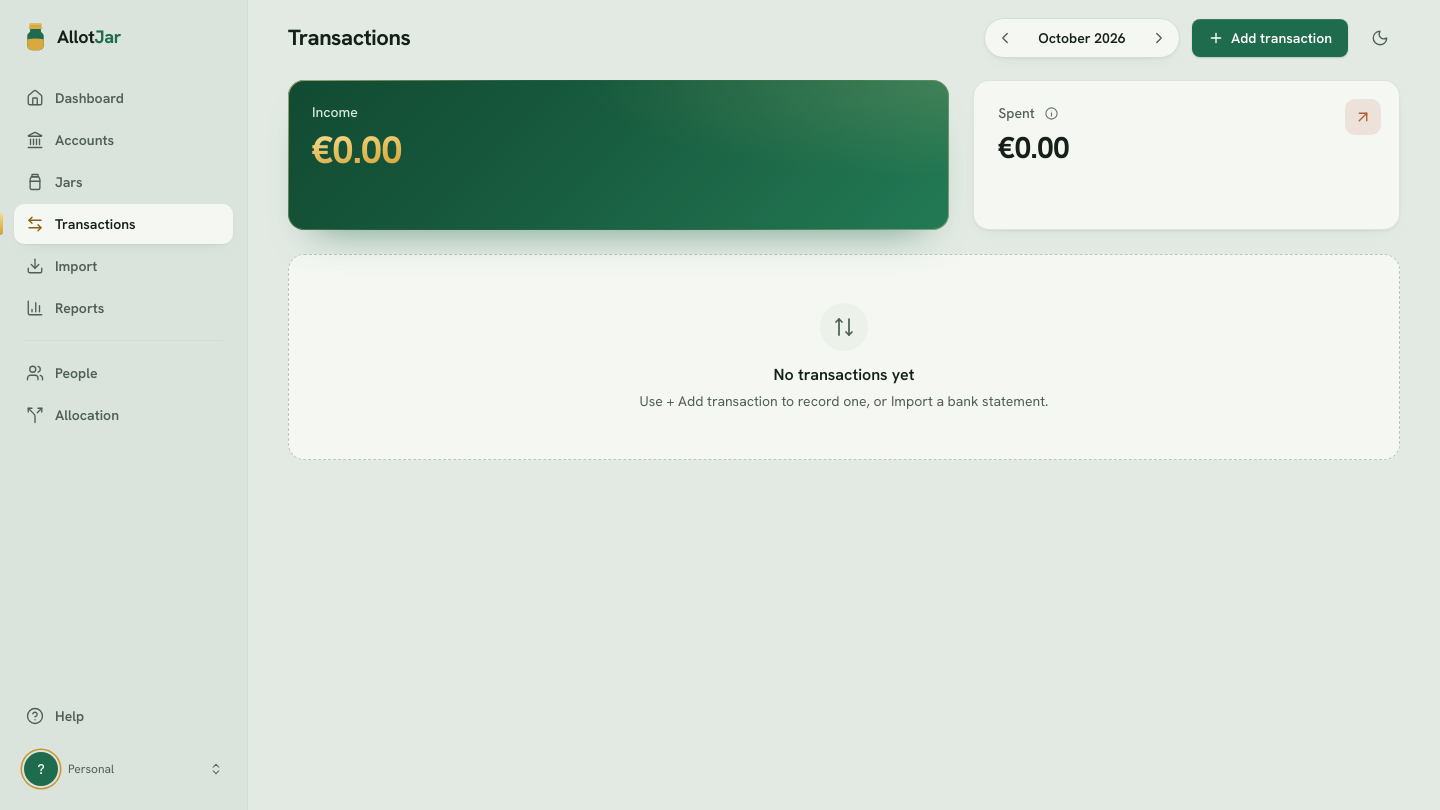
Test case: TransactionsPage jar prompts › shows a below-zero refusal verbatim
Click the button "Add transaction" at (1270, 38), box [1192,19,1348,57]
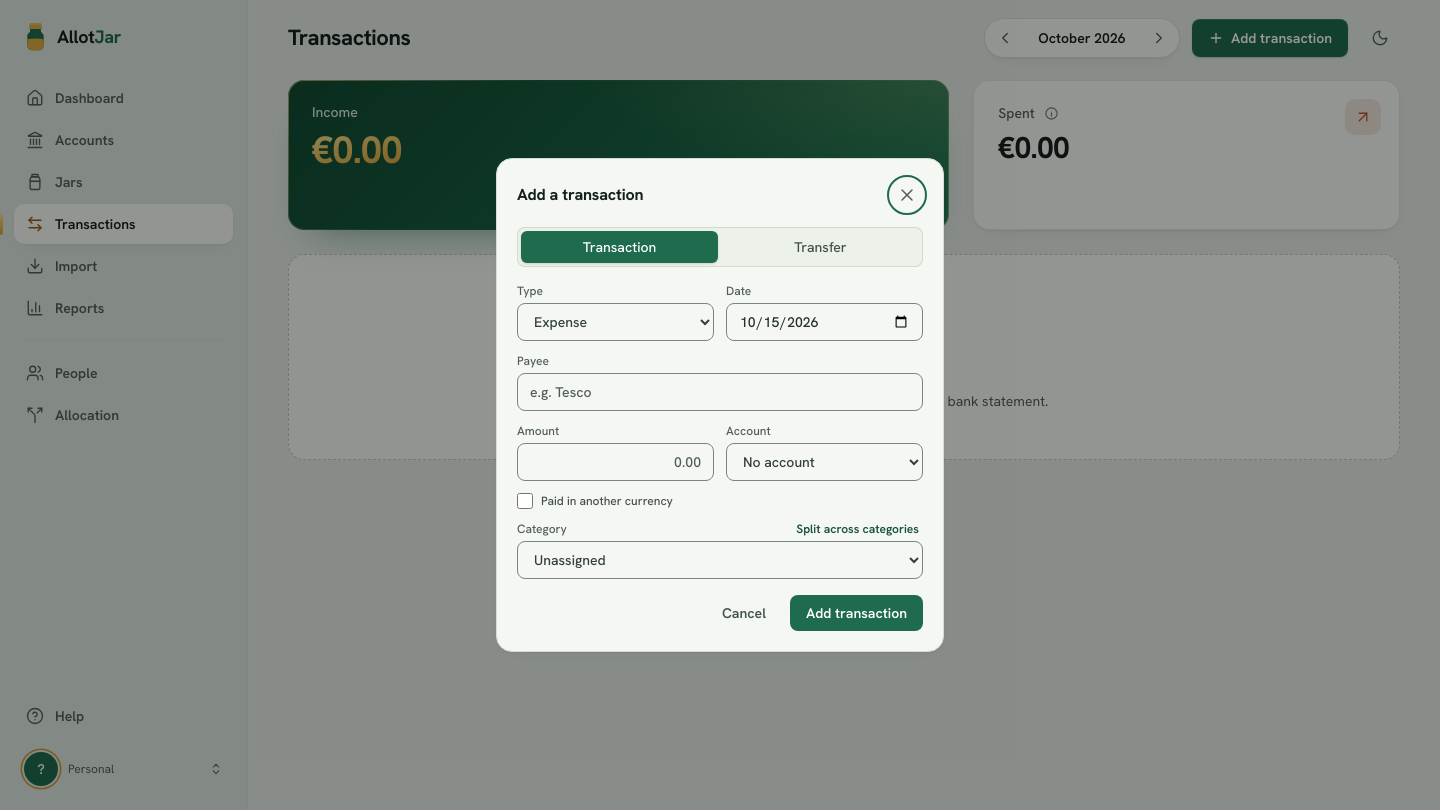
Type "550" into the field named "Transaction amount" at (616, 462), box [517,443,714,481]
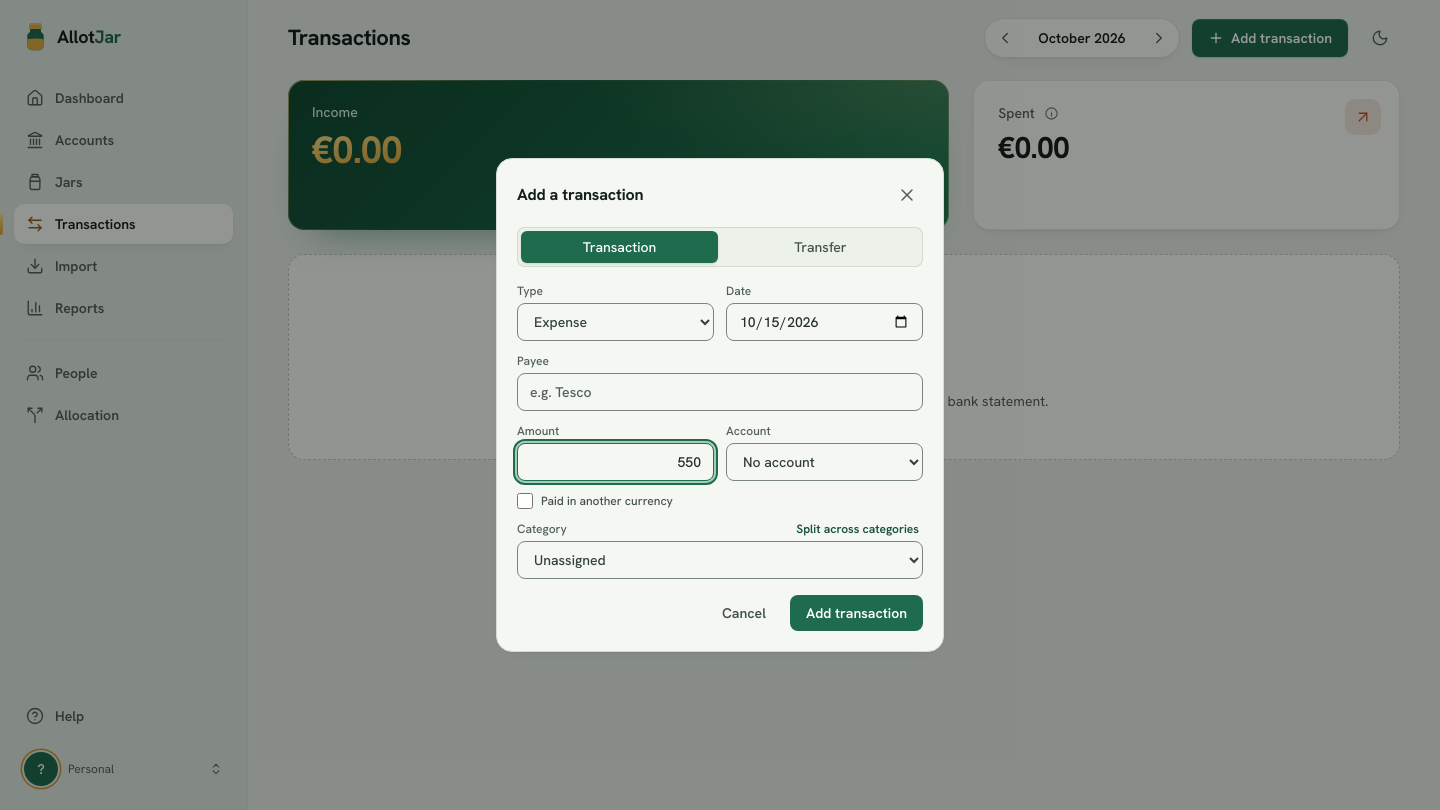
Select "Savings" in the dropdown named "Transaction account" at (824, 462), box [726,443,923,481]
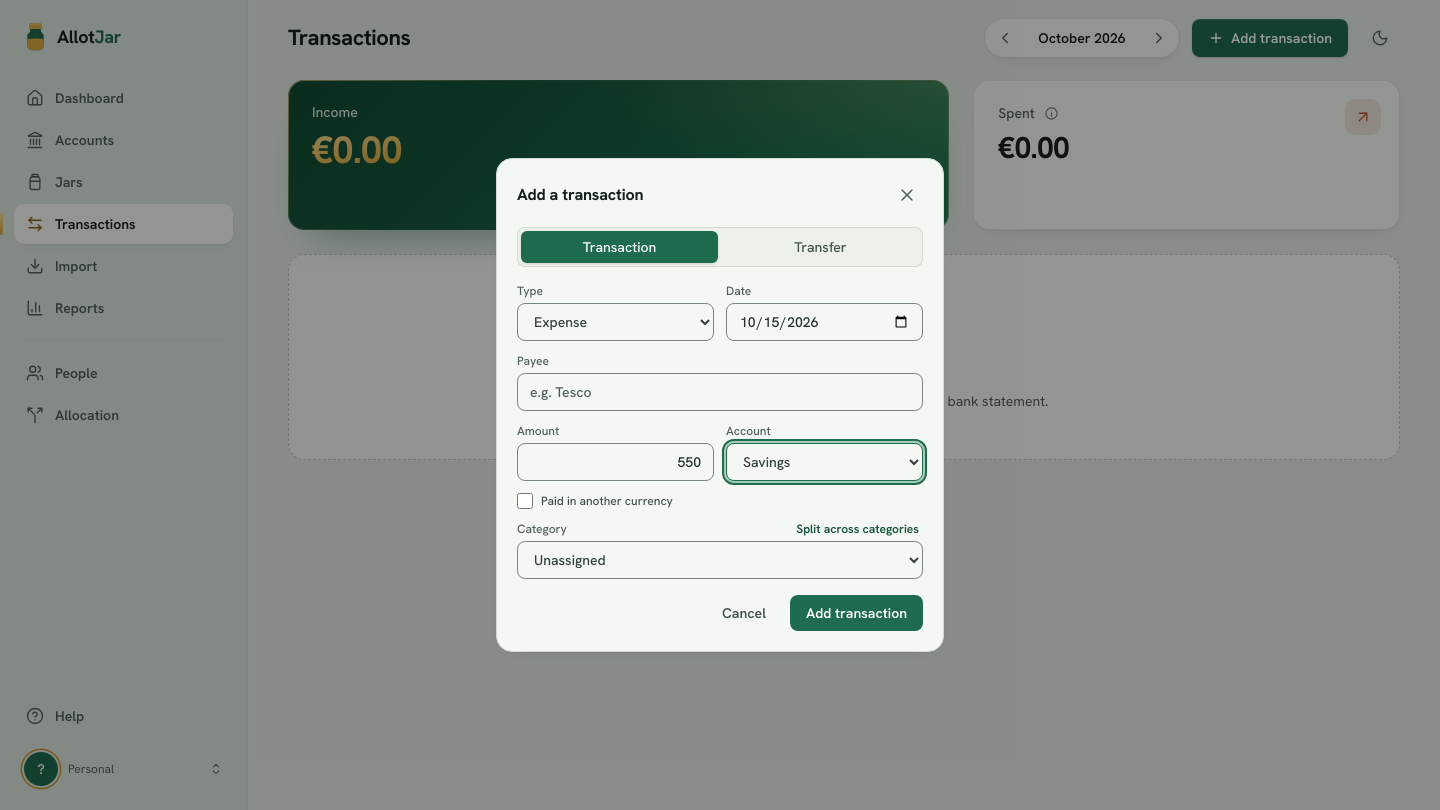
Click the button "Add transaction" at (856, 613), box [790,595,923,631]
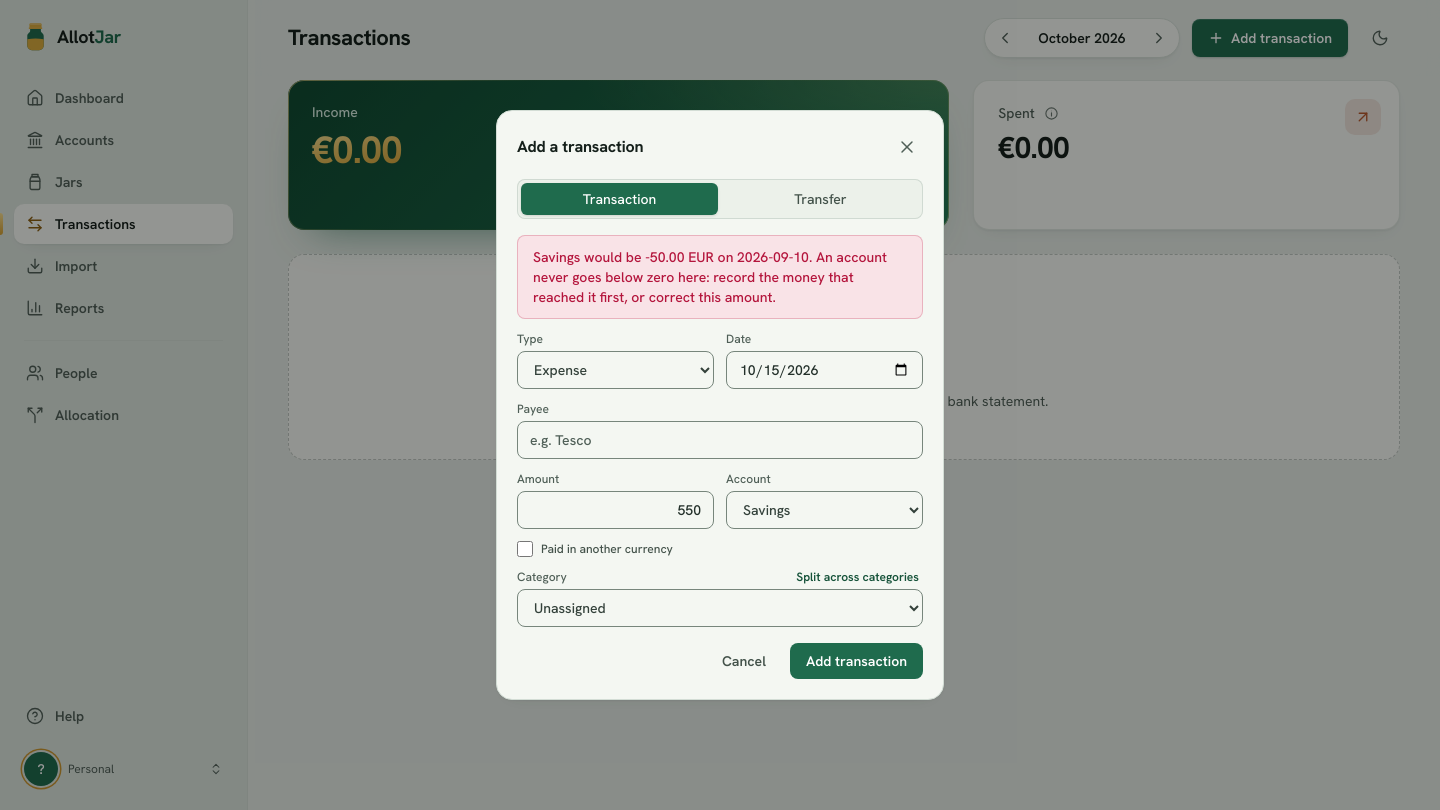
Expected: the text "Savings would be -50.00 EUR on 2026-09-10. An account never goes below zero here: record the money that reached it first" is shown, [533,248,887,306]
